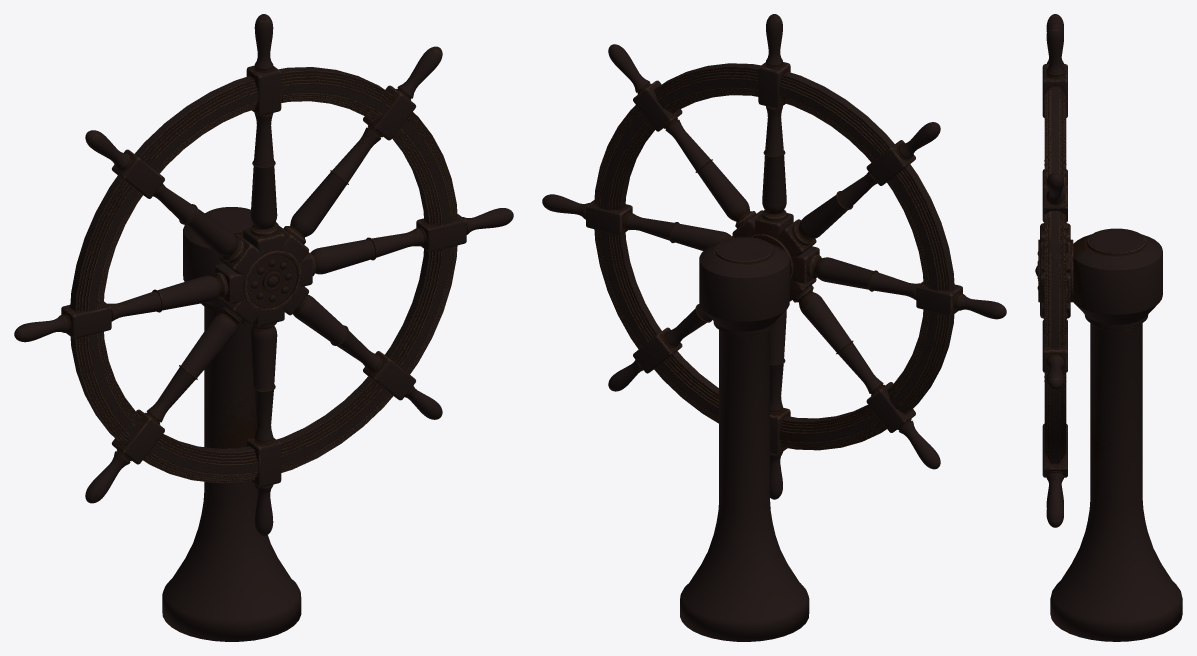
File: kemudi kapal.fbx
3 views of the same model, side by side, from view 1: azimuth 30°, elevation 25°; view 2: azimuth 150°, elevation 25°; view 3: azimuth 270°, elevation 25° (orthographic). The views are drawn at different scales.
Parts seen in each view (by area): view 1: Cylinder.003; view 2: Cylinder.003; view 3: Cylinder.003.
Part boxes in pixels (box(x1,y1,x2,y2)): Cylinder.003: box(14, 14, 513, 641); Cylinder.003: box(542, 14, 1006, 641); Cylinder.003: box(1035, 14, 1182, 641).
Size of the model in its own units: 78.98 by 94.23 by 21.33.
1 material, 1 textured.
